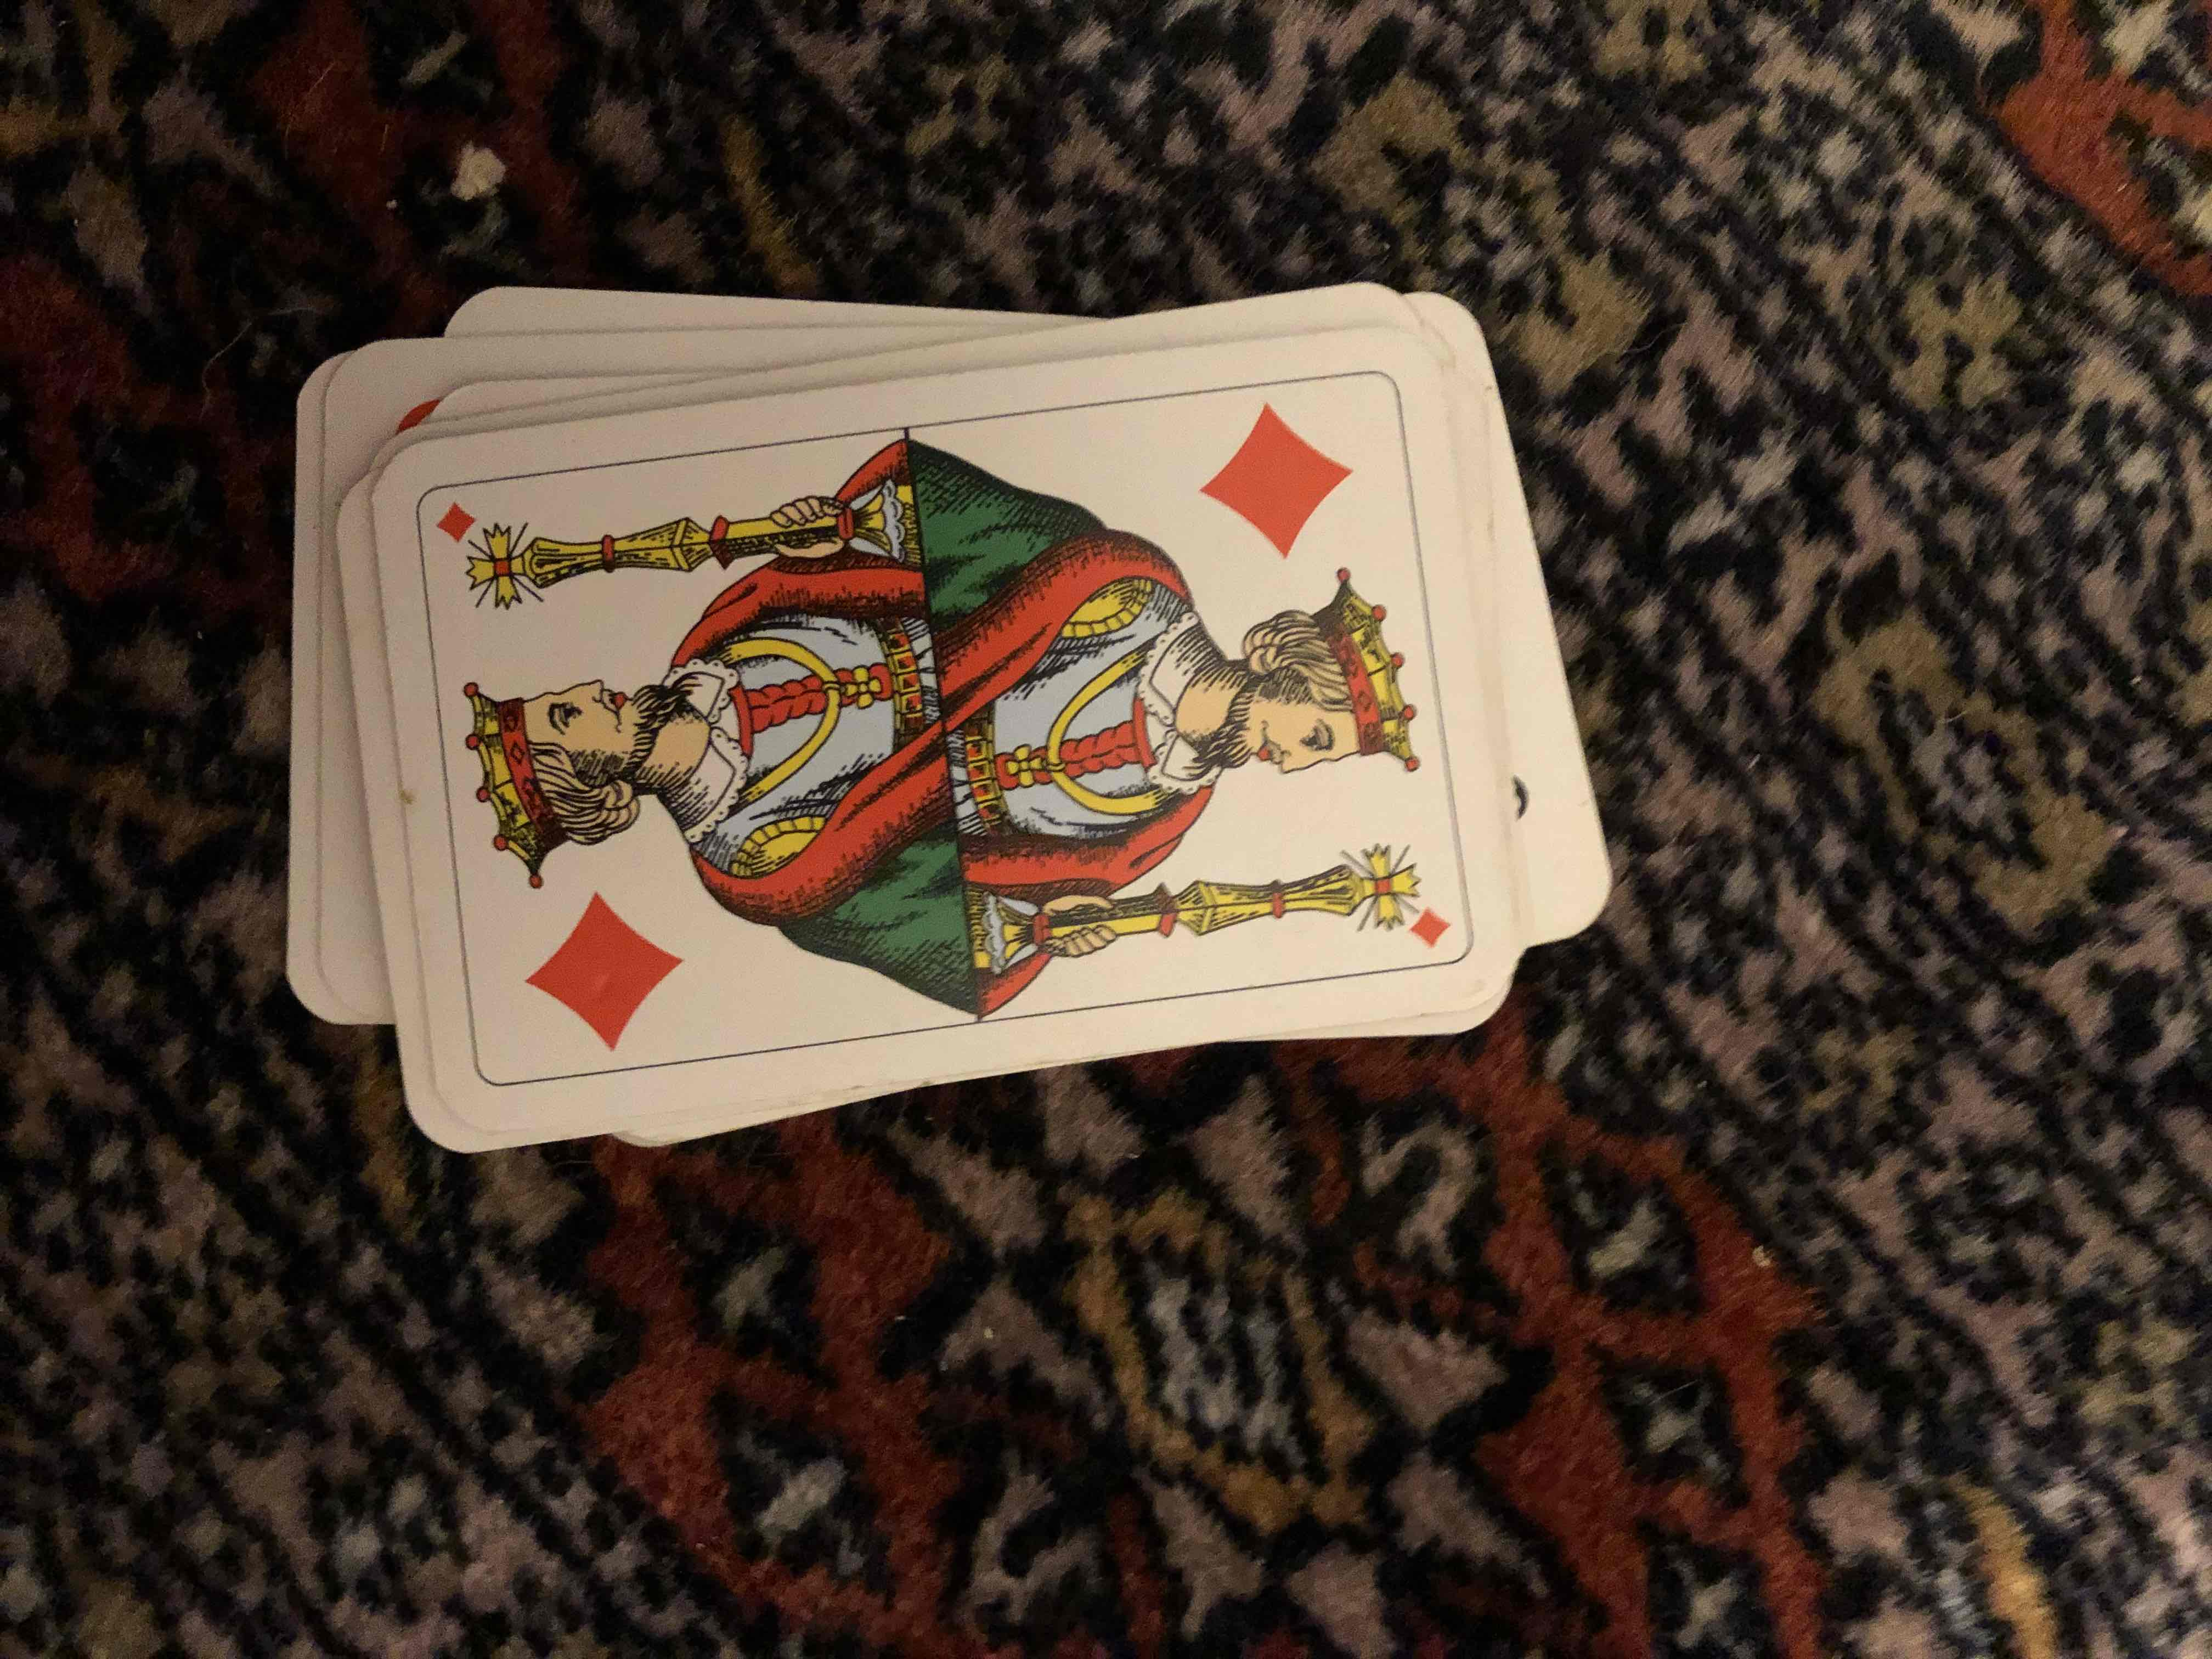diamondKing: (383, 380, 1585, 1108)
